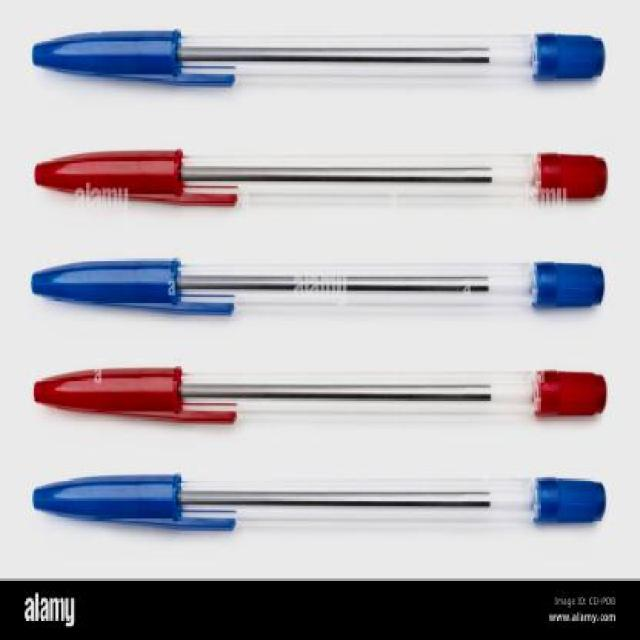pen: (29, 364, 607, 429), (36, 470, 608, 535), (38, 152, 609, 204), (36, 255, 608, 306), (33, 29, 604, 79)
